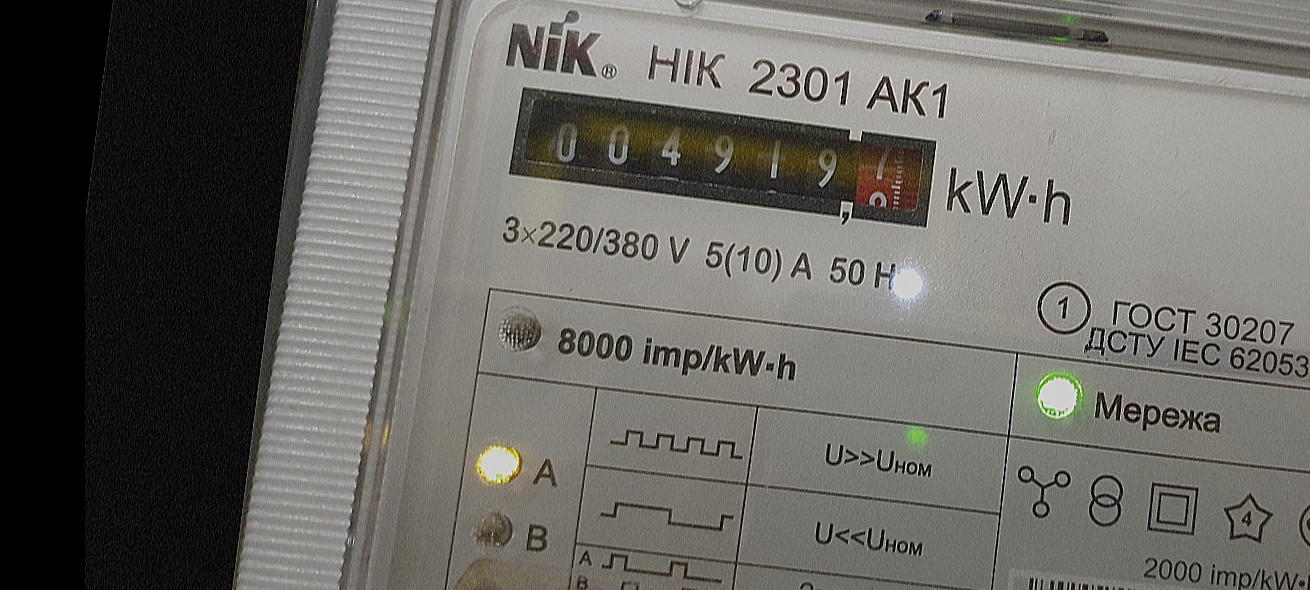0: (602, 119, 634, 167), (551, 117, 580, 163)
1: (764, 134, 784, 181)
4: (655, 120, 685, 166)
7: (866, 140, 894, 182)
9: (811, 142, 840, 191), (708, 130, 736, 176)
screen: (494, 70, 955, 246)
